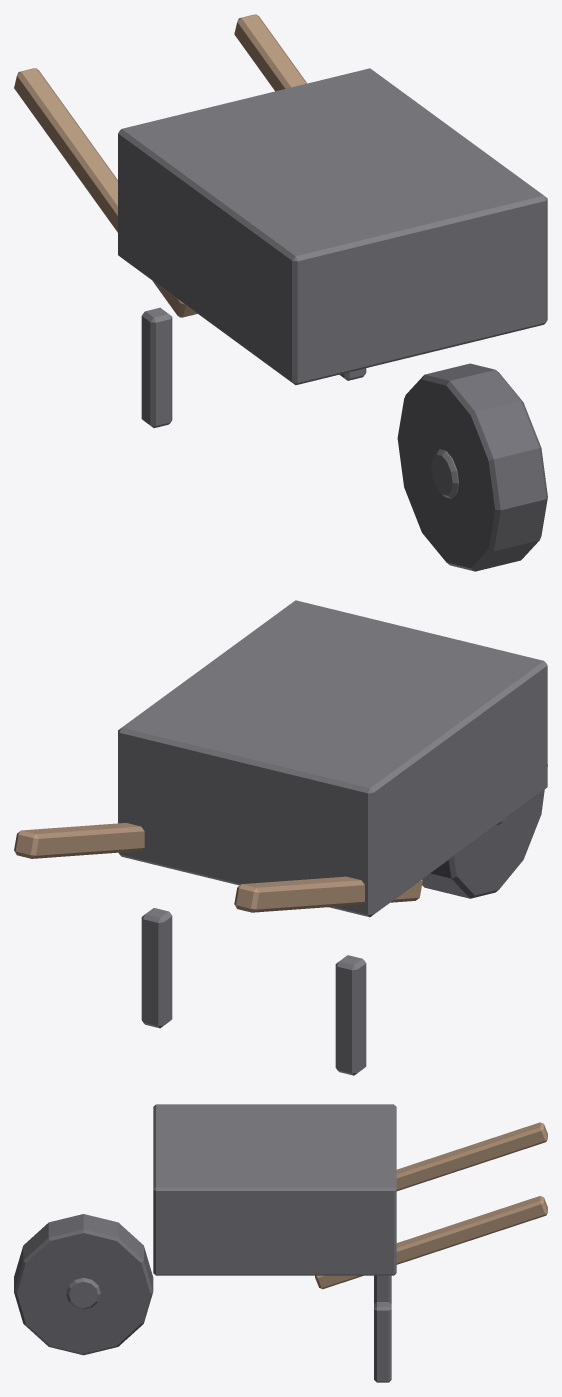
Rendered from SM_Wheelbarrow.fbx.
3 views of the same model, one above another, from view 1: azimuth 30°, elevation 25°; view 2: azimuth 150°, elevation 25°; view 3: azimuth 270°, elevation 25° (orthographic). The views are drawn at different scales.
Visible parts, largest first — view 1: Wheelbarrow; view 2: Wheelbarrow; view 3: Wheelbarrow.
Part boxes in pixels (x1,y1,x2,y2): Wheelbarrow: (14,14,547,571); Wheelbarrow: (14,600,547,1075); Wheelbarrow: (14,1104,547,1382).
Bounding box in the file's own units: 58 × 64 × 153.
